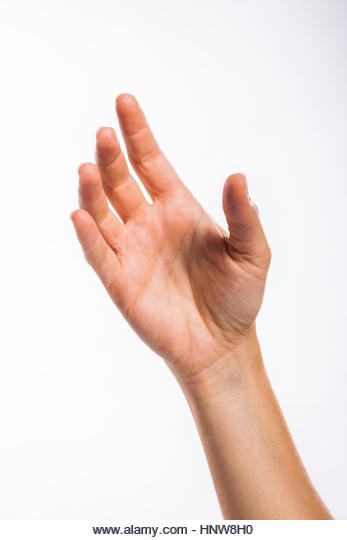non-diseased: (70, 79, 287, 355)
